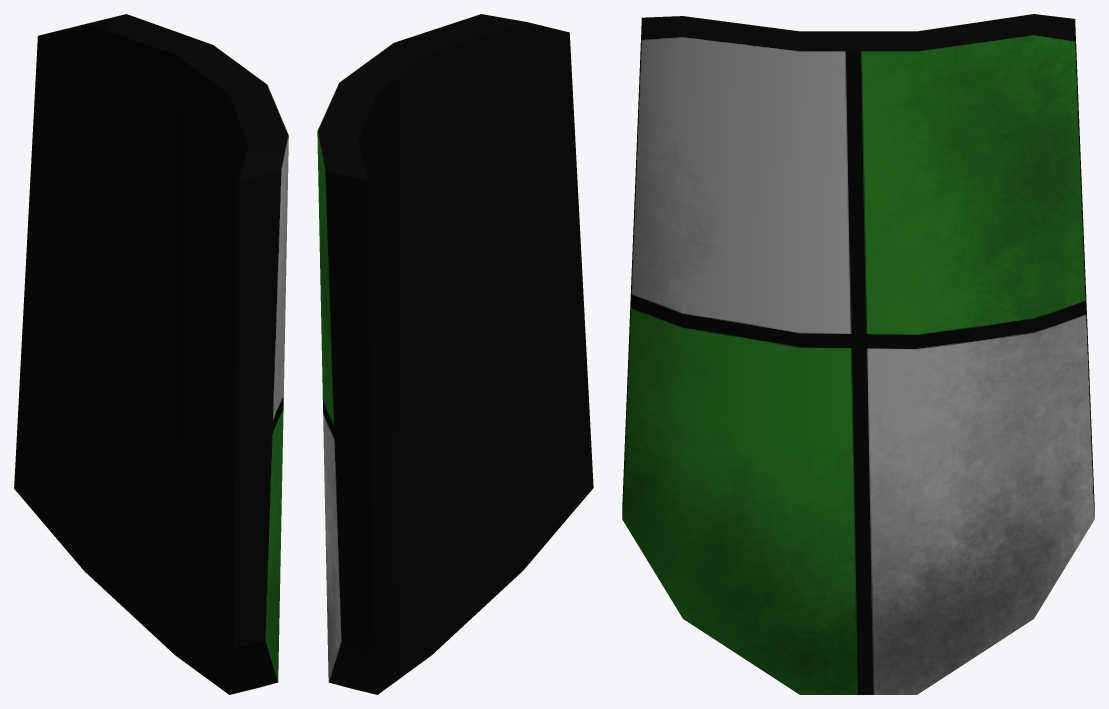
File: shieldmedium.fbx
3 views of the same model, side by side, from view 1: azimuth 30°, elevation 25°; view 2: azimuth 150°, elevation 25°; view 3: azimuth 270°, elevation 25° (orthographic). The views are drawn at different scales.
Parts seen in each view (by area): view 1: pCube71; view 2: pCube71; view 3: pCube71.
Boxes of the visible parts, bbox=[...] form: pCube71: bbox=[14, 14, 288, 694]; pCube71: bbox=[317, 14, 593, 694]; pCube71: bbox=[622, 14, 1094, 694].
Bounding box in the file's own units: 2.2 × 10.79 × 7.12.
1 material, 1 textured.
